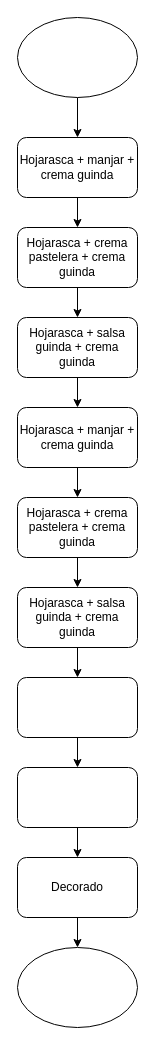
Some shapes in this 155 by 1045 pixel diagram are drawn without their labels. The shapes that lost their labels are listed below. From the top down, each one's centre as x and y in pixels, then its label:
At pixel 77 57: "Inicio pegado".
At pixel 77 707: "Hojarasca + manjar + + crema guinda + hojarasca".
At pixel 77 797: "Rebozado".
At pixel 77 987: "Fin proceso".
